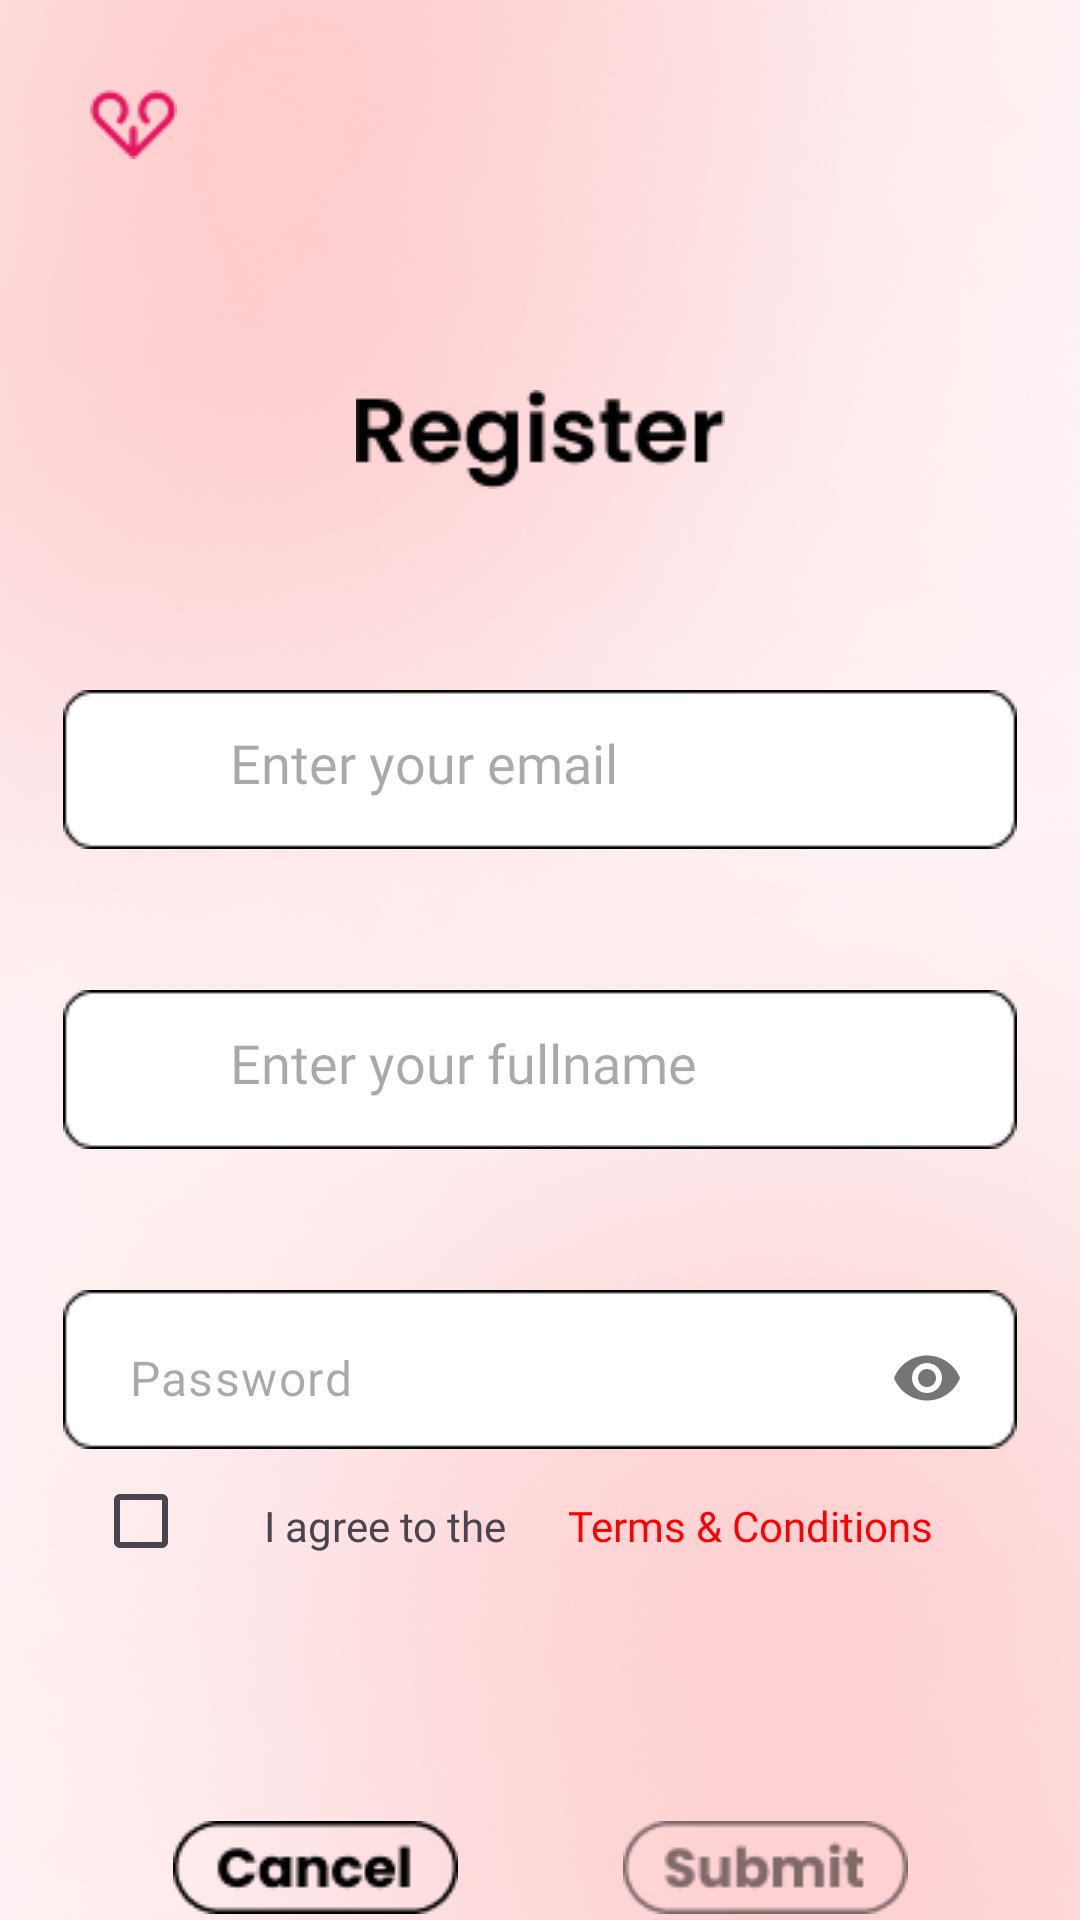

Icons on this 1080x1920 Android screen, each with its box as (x1, y1, x2, y2):
mini heart: (90, 90, 177, 159)
